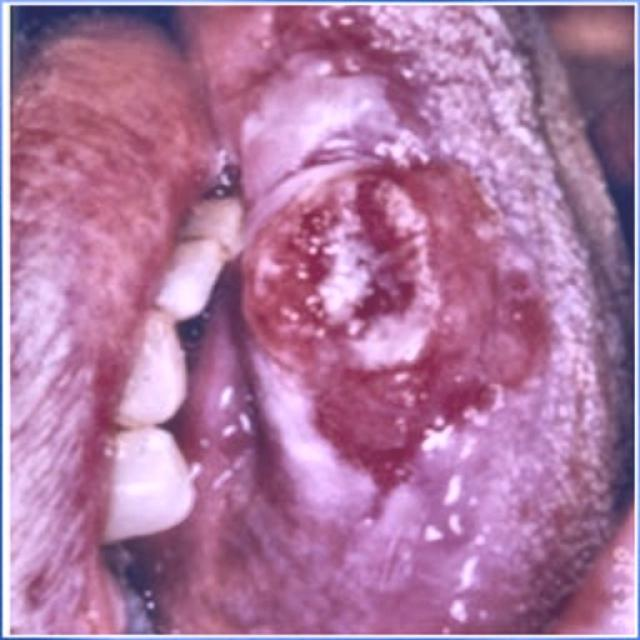cancer-detection: (242, 37, 527, 529)
processing_area: (161, 8, 639, 628)
